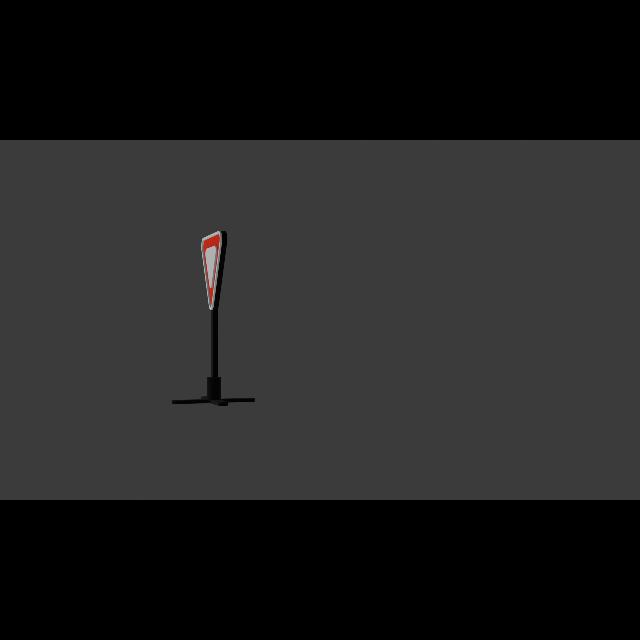sign_yield: (202, 232, 225, 311)
